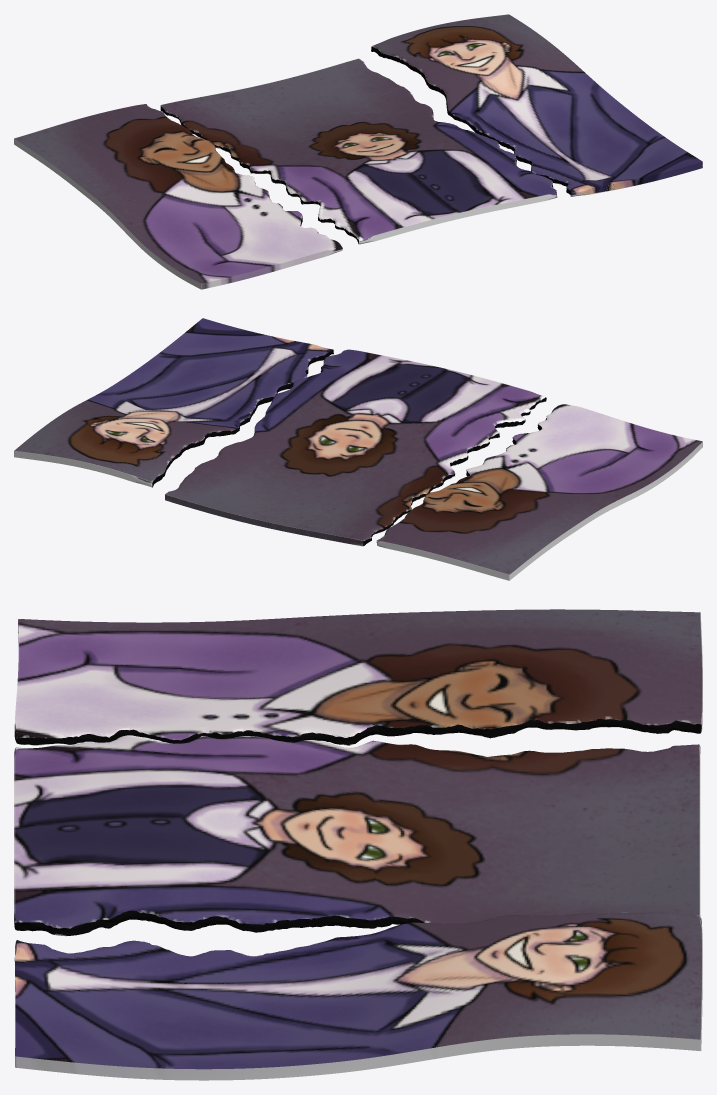
The model's file is Foias.obj.
The picture shows the model from 3 angles, top to bottom: view 1: azimuth 30°, elevation 25°; view 2: azimuth 150°, elevation 25°; view 3: azimuth 270°, elevation 25°; orthographic projection. The views are drawn at different scales.
Parts seen in each view (by area): view 1: submesh, submesh_1, submesh_2; view 2: submesh, submesh_1, submesh_2; view 3: submesh, submesh_2, submesh_1.
Boxes of the visible parts, left/top/right/bottom form: submesh: left=160, top=58, right=557, bottom=244; submesh_1: left=14, top=104, right=342, bottom=289; submesh_2: left=371, top=14, right=702, bottom=196; submesh: left=165, top=349, right=546, bottom=546; submesh_1: left=376, top=404, right=702, bottom=580; submesh_2: left=14, top=318, right=333, bottom=487; submesh: left=14, top=735, right=700, bottom=936; submesh_2: left=14, top=912, right=702, bottom=1080; submesh_1: left=14, top=609, right=702, bottom=745.
Bounding box in the file's own units: 1.52 × 0.0908 × 1.
Materials: 3 (3 with a texture image).
